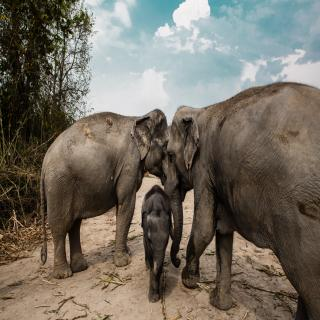Elephant: (162, 77, 320, 320), (39, 108, 182, 278), (138, 185, 176, 304)
